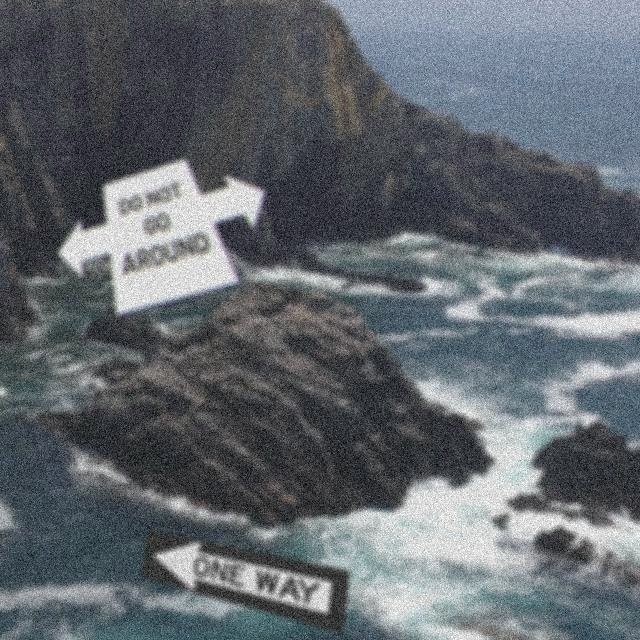DO_NOT_GO_AROUND: (56, 157, 267, 317)
ONE_WAY_ left: (139, 529, 350, 635)
